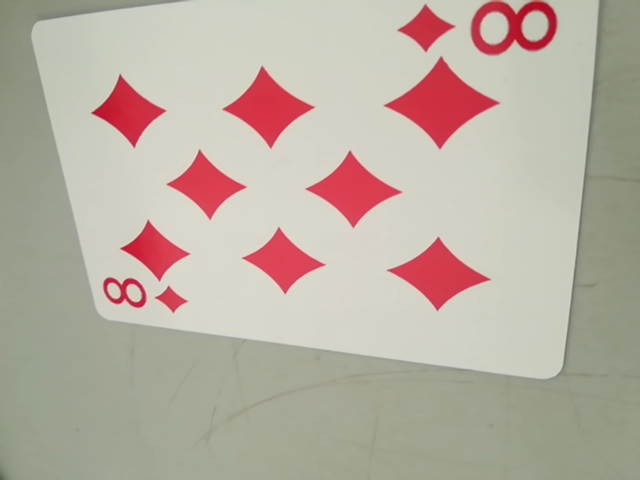fk 8: (400, 0, 561, 66), (98, 271, 187, 320)
